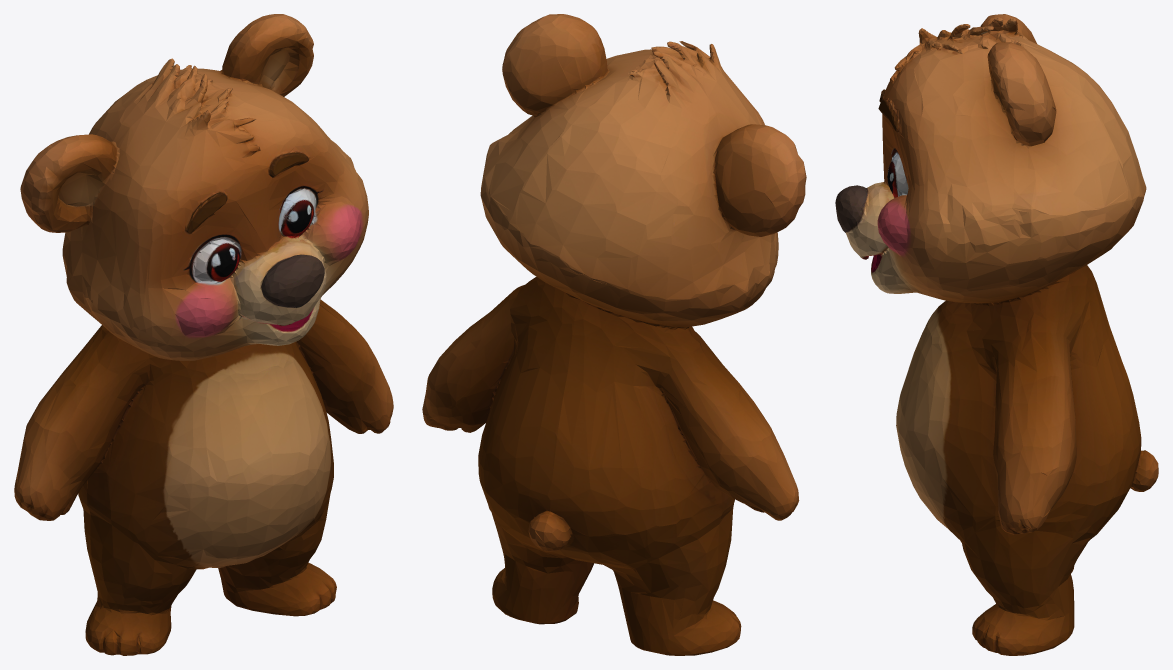
File: npc_bear.glb
3 renders of one model, left to right at view 1: azimuth 30°, elevation 25°; view 2: azimuth 150°, elevation 25°; view 3: azimuth 270°, elevation 25°, orthographic.
Parts seen in each view (by area): view 1: textured_mesh.obj; view 2: textured_mesh.obj; view 3: textured_mesh.obj.
Boxes of the visible parts, box(x1,y1,x2,y2) form: textured_mesh.obj: box(14, 14, 393, 655); textured_mesh.obj: box(422, 14, 806, 655); textured_mesh.obj: box(835, 14, 1158, 655).
Size of the model in its own units: 1.31 by 1.98 by 0.9995.
1 material, 1 textured.
